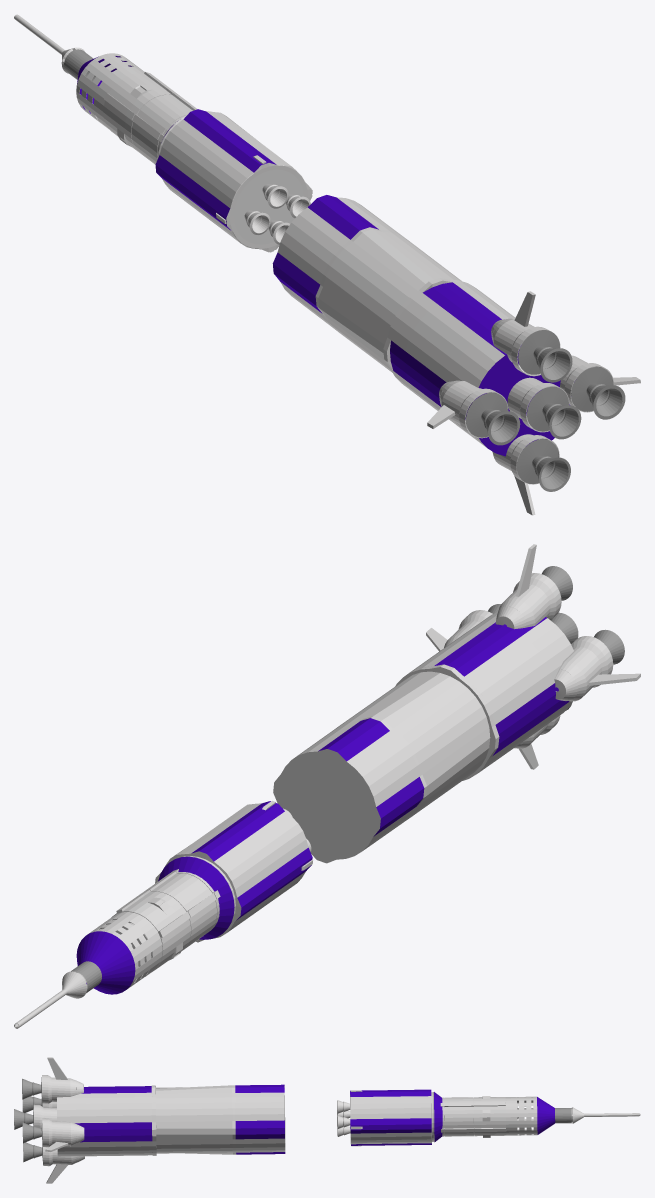
File: ten lua.fbx
3 views of the same model, one above another, from view 1: azimuth 30°, elevation 25°; view 2: azimuth 150°, elevation 25°; view 3: azimuth 270°, elevation 25° (orthographic). The views are drawn at different scales.
Parts seen in each view (by area): view 1: polySurface69; view 2: polySurface69; view 3: polySurface69.
Part boxes in pixels (x1,y1,x2,y2): polySurface69: [14, 14, 640, 515]; polySurface69: [14, 544, 640, 1028]; polySurface69: [14, 1057, 640, 1183].
Bounding box in the file's own units: 402 × 404 × 1822.
